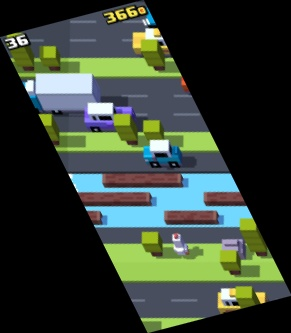car: (84, 102, 140, 132), (216, 288, 269, 316), (133, 29, 177, 55), (142, 140, 182, 168)
duck: (171, 233, 188, 256)
log: (202, 191, 249, 206), (76, 210, 102, 224)
rock: (76, 191, 152, 206), (101, 174, 184, 187), (164, 210, 220, 223), (222, 238, 244, 259)
tree: (18, 73, 104, 114), (237, 287, 270, 324), (4, 30, 34, 70), (240, 220, 270, 257), (113, 114, 140, 146), (33, 113, 60, 145), (140, 38, 165, 71), (38, 46, 62, 73), (141, 232, 164, 256), (144, 120, 165, 144), (220, 250, 241, 274)
water: (67, 174, 263, 228)
